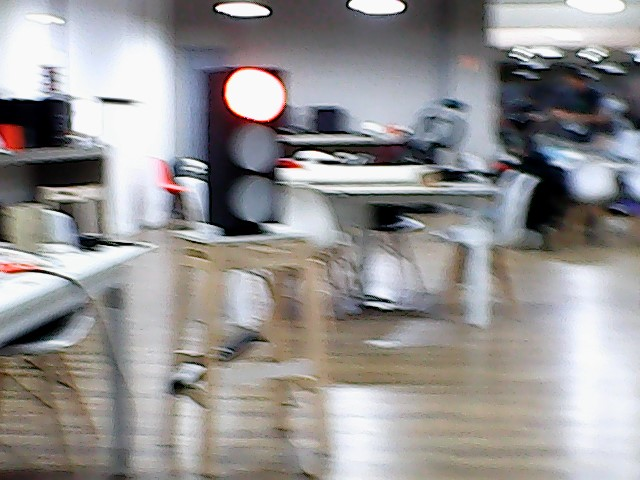vermelho: (203, 65, 287, 227)
